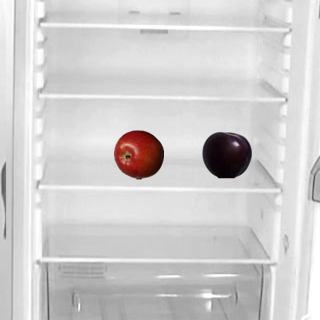Apple Braeburn: (113, 129, 163, 179)
Cherry Wax Black: (201, 129, 251, 179)
